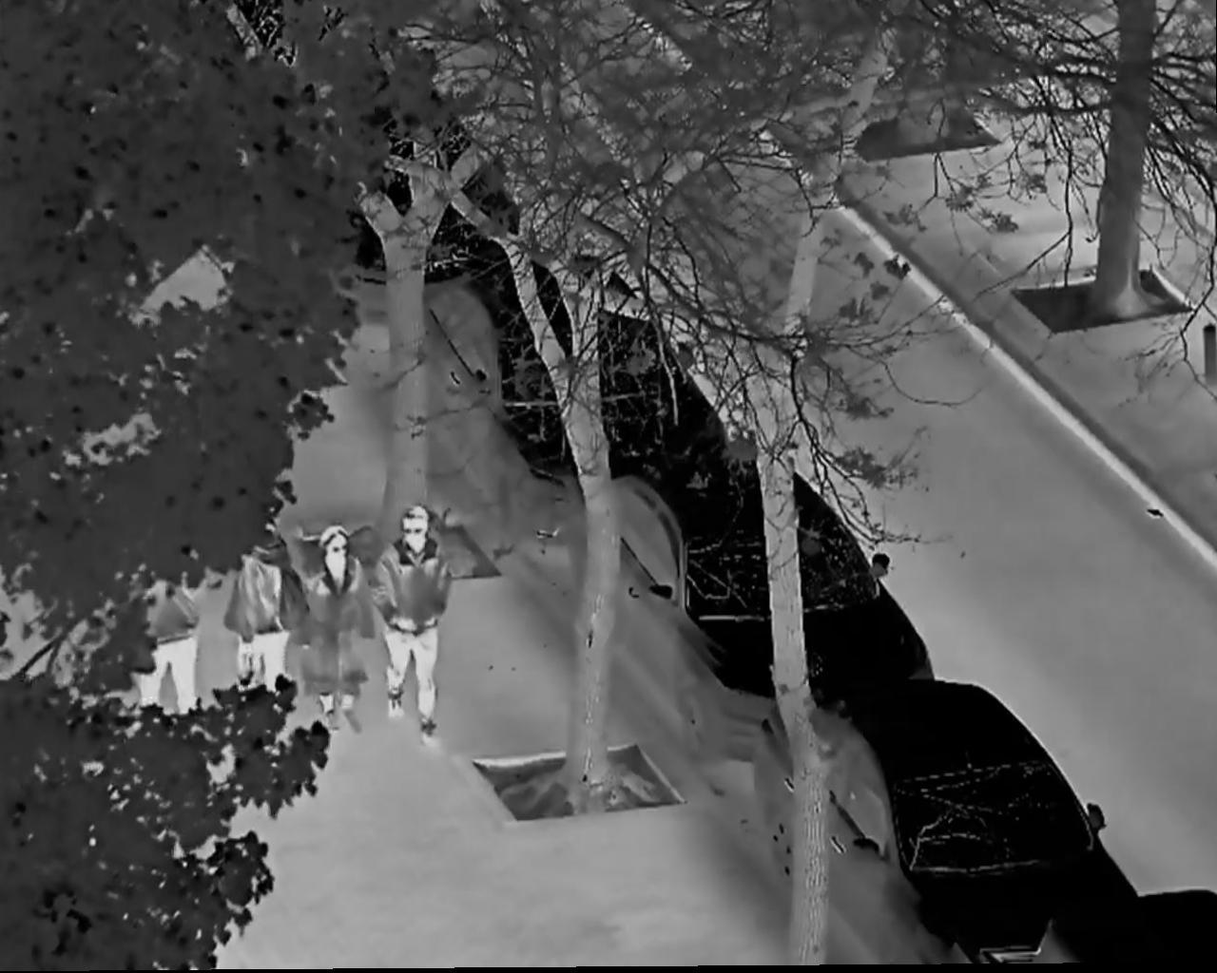person: (377, 506, 454, 750), (123, 527, 209, 733), (223, 507, 300, 711), (307, 525, 373, 740)
